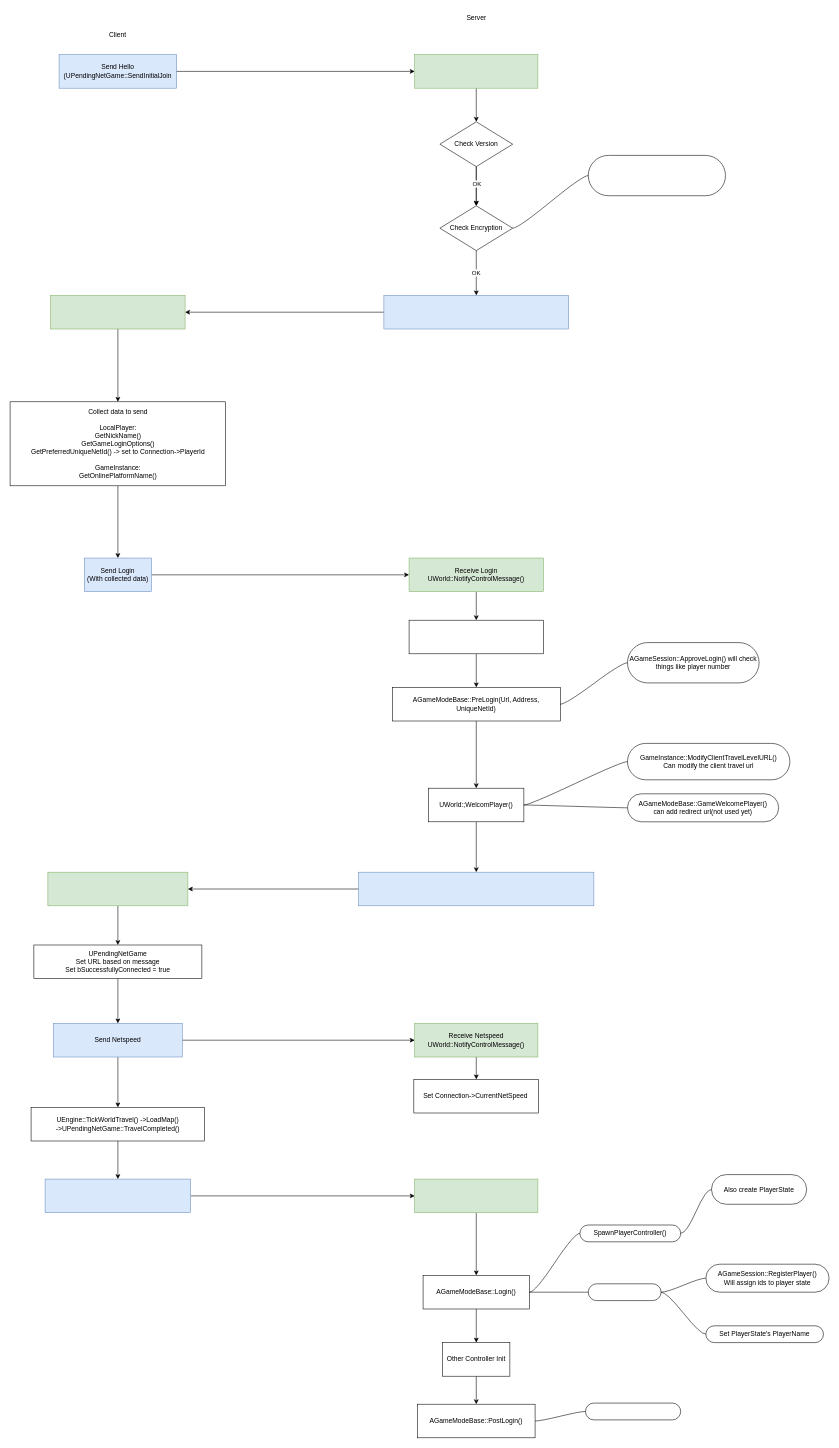
This 839x1448 diagram has some shape labels left out. Each missing label, with the centre of its shape:
"InitNewPlayer()" belongs at (624,1292).
"Receive Challenge UPendingNetGame::NotifyControlMessage" belongs at (117,312).
"Receive Hello UWorld::NotifyControlMessage()" belongs at (476,71).
"Receive Join UWorld::NotifyControlMessage()" belongs at (476,1196).
"Receive Welcome UPendingNetGame::NotifyControlMessage" belongs at (117,889).
"RPC is safe to call now!" belongs at (633,1411).
"Send Challenge UNetConnection::SendChallengeControlMessage()" belongs at (476,312).
"Send Join UPendingNetGame::SendJoin()" belongs at (118,1196).
"Send Welcome UWorld::WelcomePlayer(LevelName, GameModeName, RedirectURL)" belongs at (476,889).
"Set Connection data: PlayerId PlaterOnlinePlatformName" belongs at (476,637).
"Some delegates in FNetDelegates can be bound to check encryption logic" belongs at (656,175).
